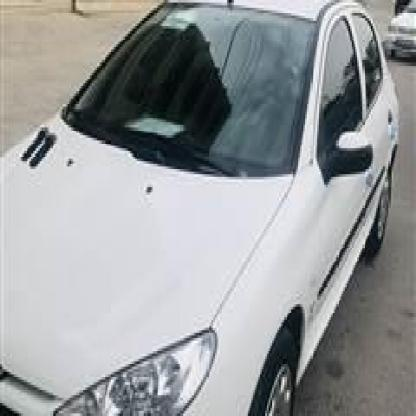Car: (0, 0, 402, 416), (381, 0, 416, 73)
